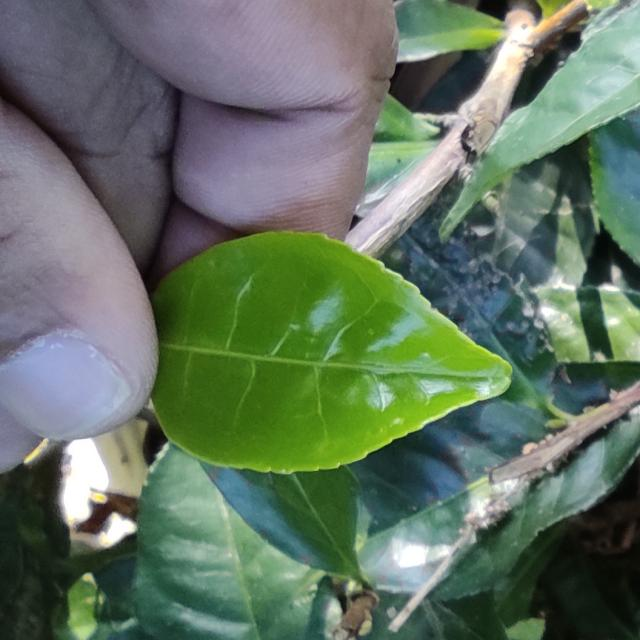Category C(4-7 days): (70, 184, 535, 492)
